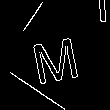M_N: (28, 26, 82, 84)
